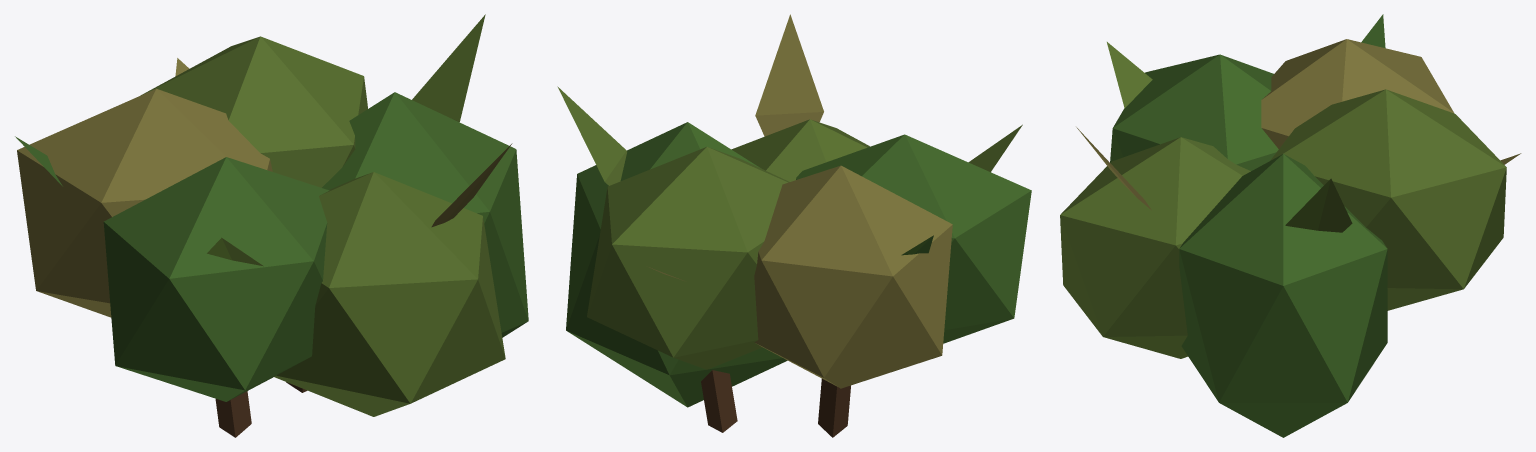
File: E3_brush_a.glb
3 renders of one model, left to right at view 1: azimuth 30°, elevation 25°; view 2: azimuth 150°, elevation 25°; view 3: azimuth 270°, elevation 25°, orthographic. The views are drawn at different scales.
Visible parts, largest first — view 1: E3_brush_a; view 2: E3_brush_a; view 3: E3_brush_a.
Part boxes in pixels (box(x1,y1,x2,y2)): E3_brush_a: box(15, 14, 528, 437); E3_brush_a: box(557, 14, 1031, 437); E3_brush_a: box(1060, 14, 1521, 437).
Bounding box in the file's own units: 1.08 × 0.8 × 1.06.
